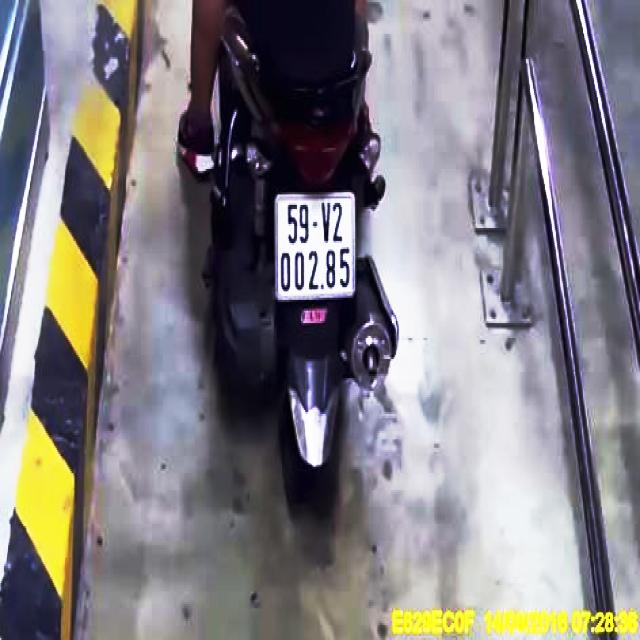license_plate: (275, 197, 355, 296)
